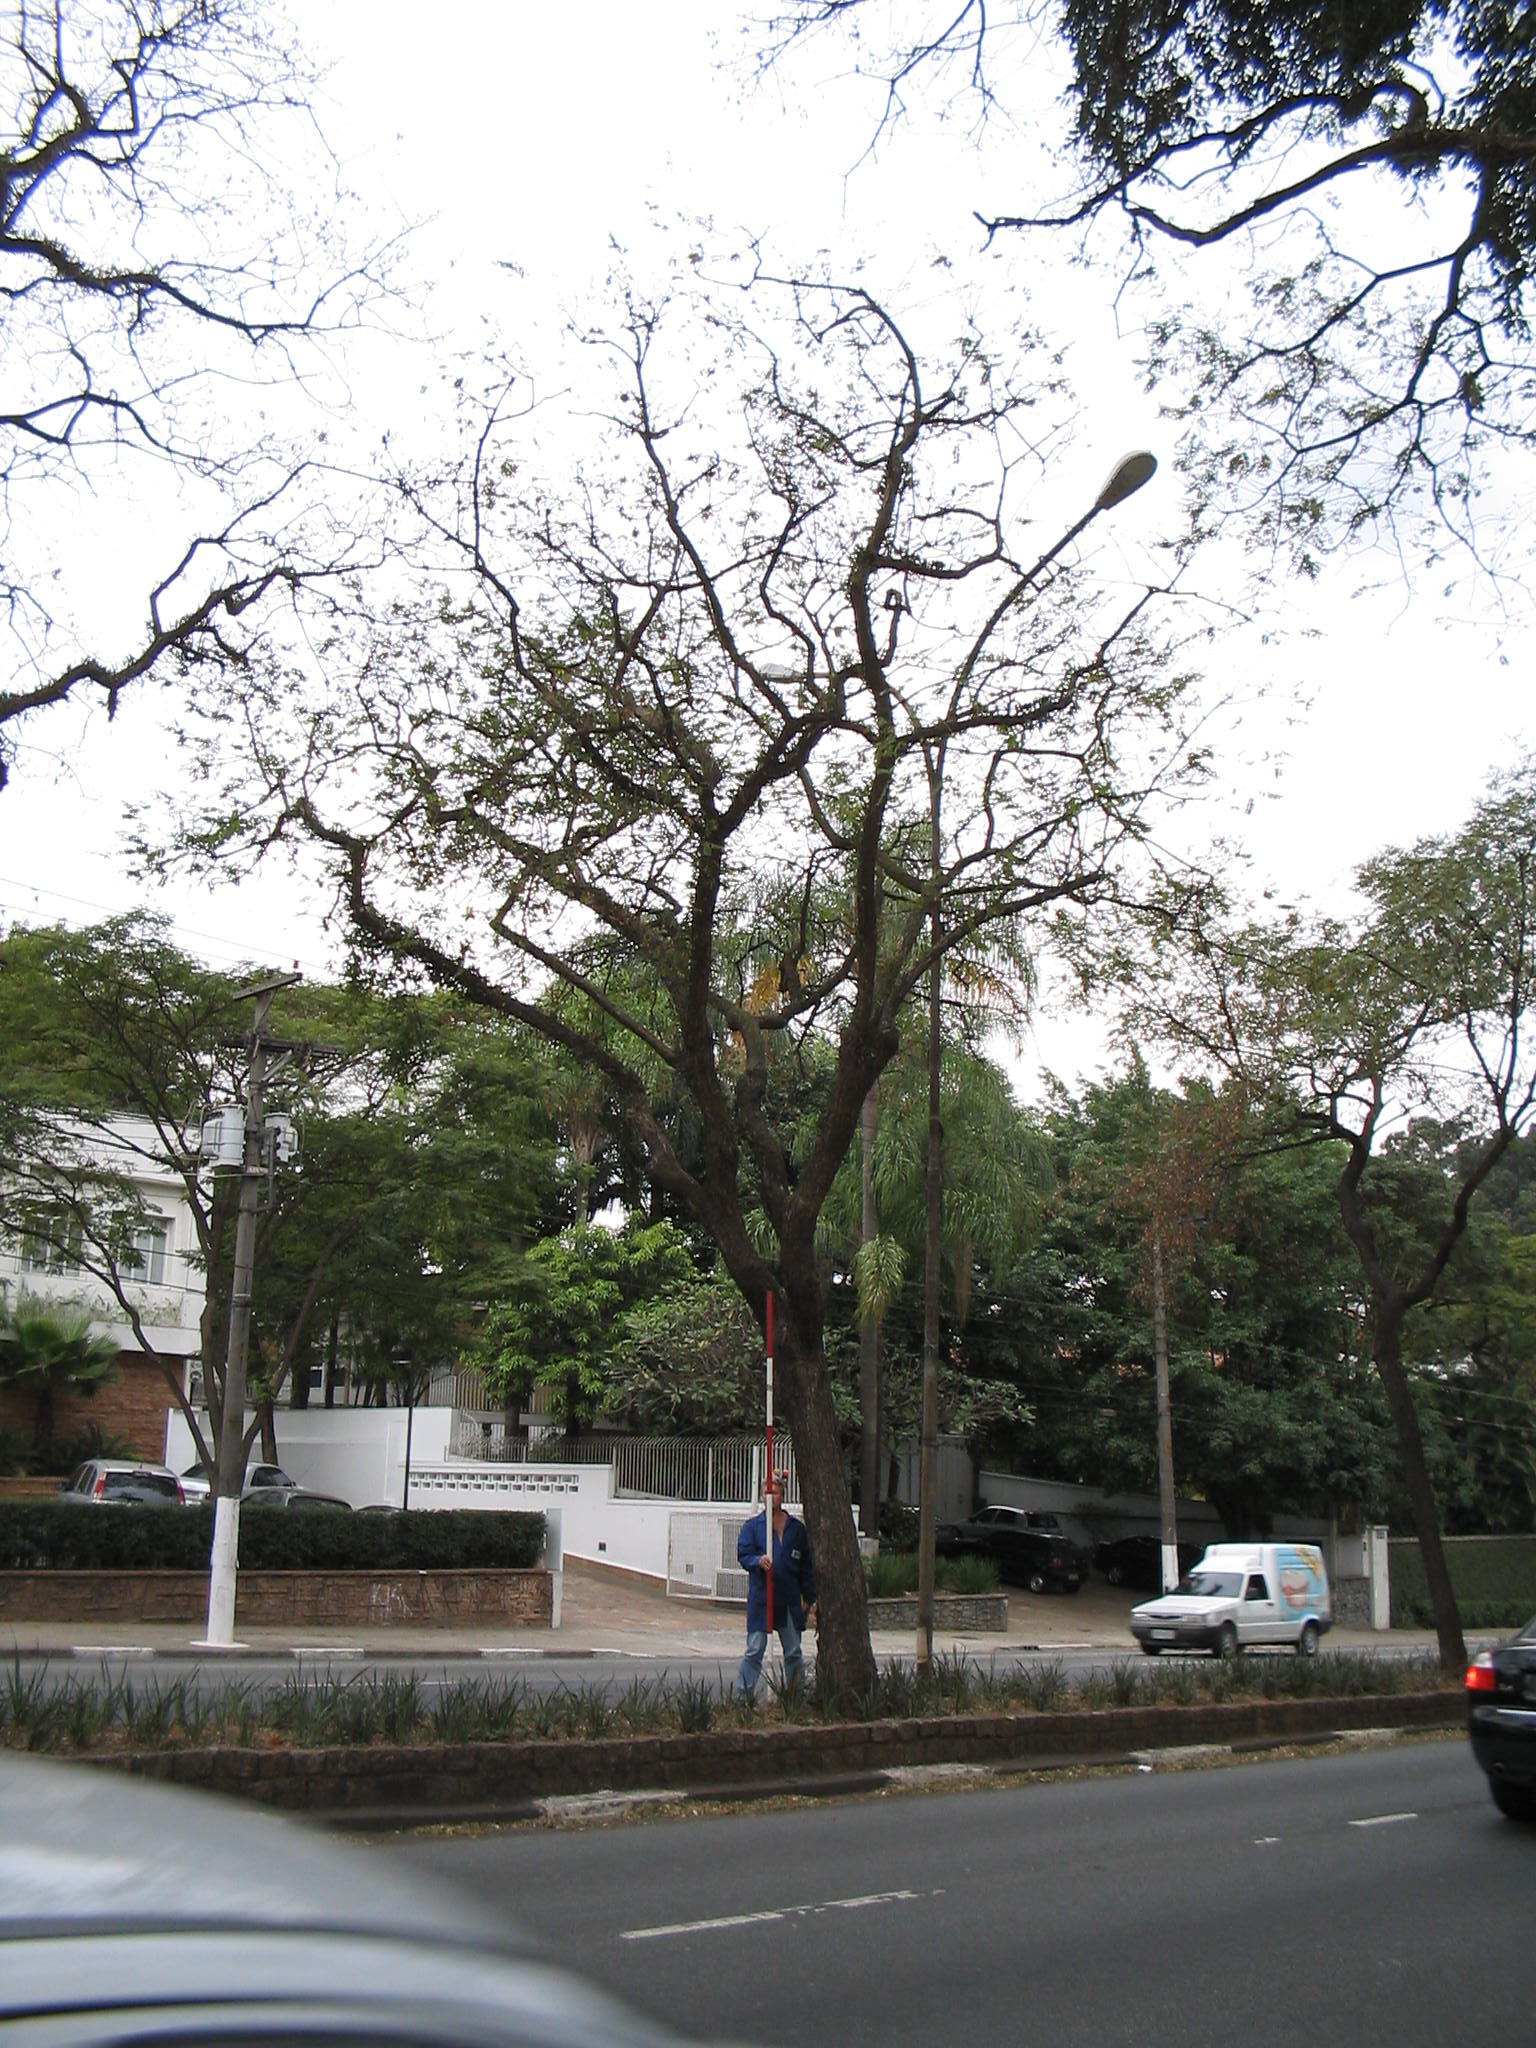stem: (715, 1274, 923, 1717), (1349, 1311, 1499, 1675)
stick: (736, 1290, 802, 1724)
tree: (139, 221, 1333, 1725), (1065, 782, 1533, 1674)
